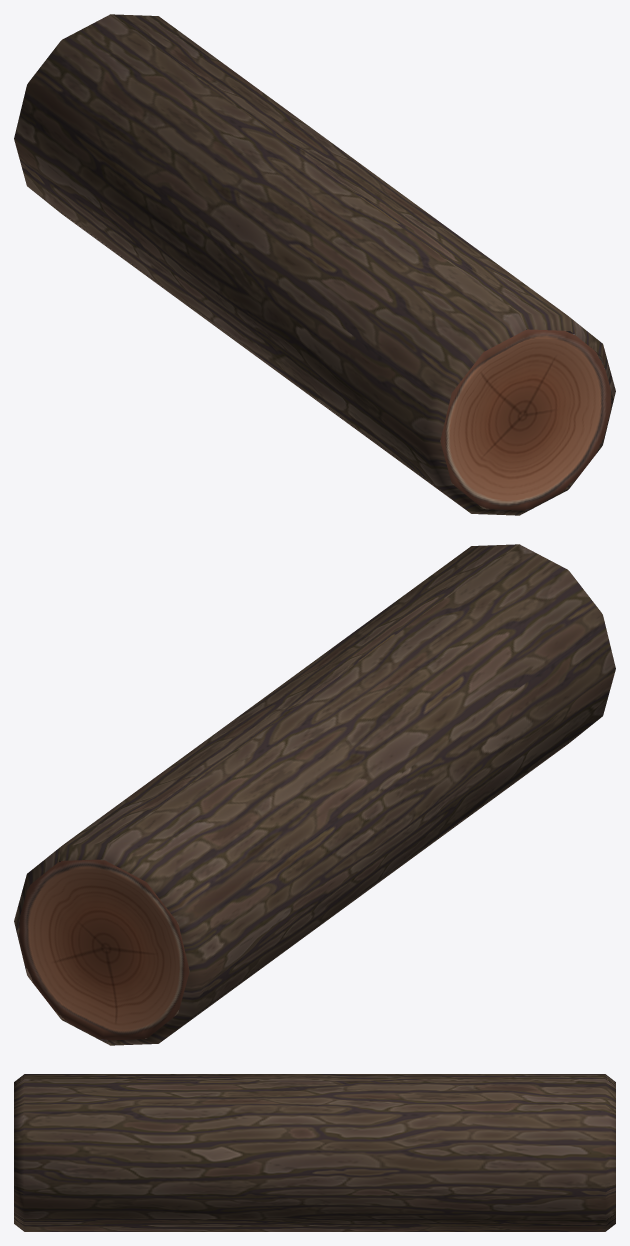
Rendered from log.fbx.
3 renders of one model, top to bottom at view 1: azimuth 30°, elevation 25°; view 2: azimuth 150°, elevation 25°; view 3: azimuth 270°, elevation 25°, orthographic. The views are drawn at different scales.
Visible parts, largest first — view 1: log.001; view 2: log.001; view 3: log.001.
Boxes of the visible parts, <box> form: log.001: <box>14,14,615,515</box>; log.001: <box>14,544,615,1045</box>; log.001: <box>14,1074,615,1231</box>.
Bounding box in the file's own units: 26.87 × 26.87 × 102.
Materials: 1 (1 with a texture image).
